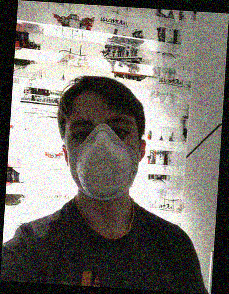with_mask: (65, 106, 140, 201)
